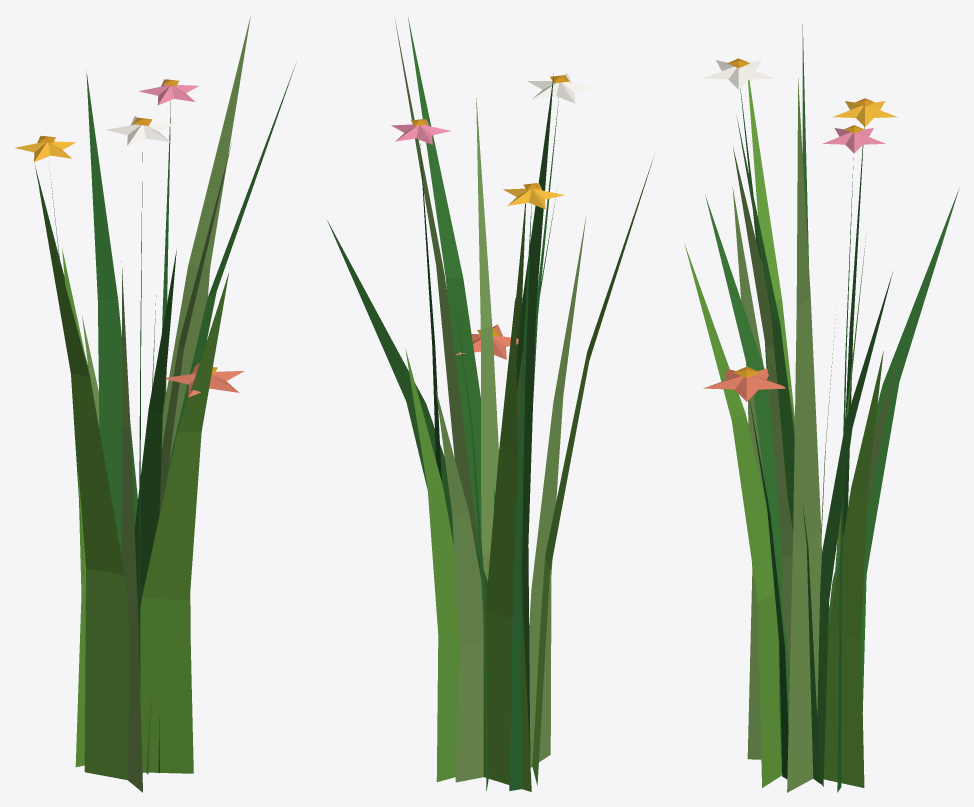
The model's file is meadow_flowers.glb.
The picture shows the model from 3 angles, left to right: view 1: azimuth 30°, elevation 25°; view 2: azimuth 150°, elevation 25°; view 3: azimuth 270°, elevation 25°; orthographic projection. The views are drawn at different scales.
Parts seen in each view (by area): view 1: body; view 2: body; view 3: body.
Boxes of the visible parts, x1,y1,x2,y2 form: body: [15, 16, 295, 792]; body: [327, 17, 653, 791]; body: [684, 24, 959, 792].
Size of the model in its own units: 0.3302 by 0.8875 by 0.2966.
